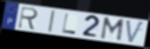2: (80, 15, 103, 40)
I: (47, 10, 57, 34)
L: (62, 13, 78, 35)
M: (99, 16, 126, 43)
R: (17, 6, 40, 31)
V: (125, 19, 146, 45)
